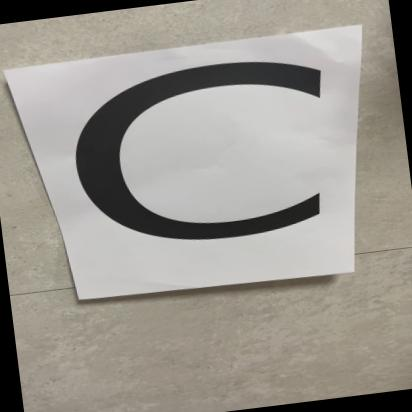seat: (28, 31, 378, 293)
